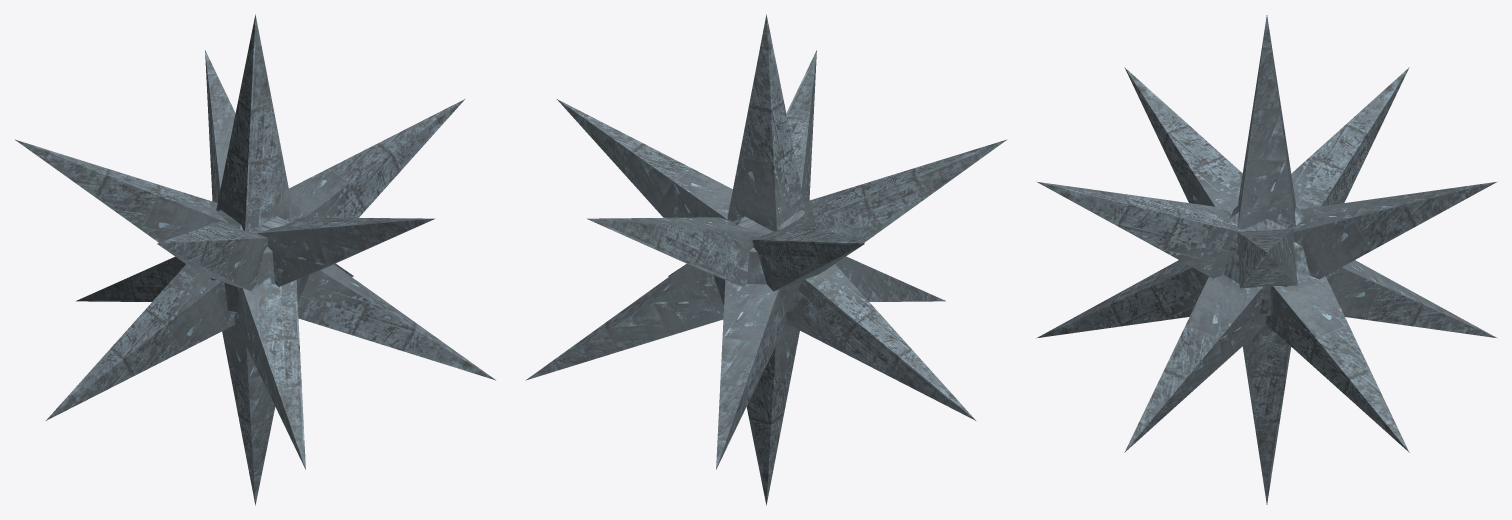
Rendered from projectile_fire_spike.glb.
3 renders of one model, left to right at view 1: azimuth 30°, elevation 25°; view 2: azimuth 150°, elevation 25°; view 3: azimuth 270°, elevation 25°, orthographic.
Parts seen in each view (by area): view 1: FireSpike; view 2: FireSpike; view 3: FireSpike.
Boxes of the visible parts, bbox=[...] form: FireSpike: bbox=[15, 14, 495, 505]; FireSpike: bbox=[526, 14, 1006, 505]; FireSpike: bbox=[1036, 15, 1497, 504].
Size of the model in its own units: 0.644 by 0.72 by 0.6125.
Materials: 1 (1 with a texture image).
